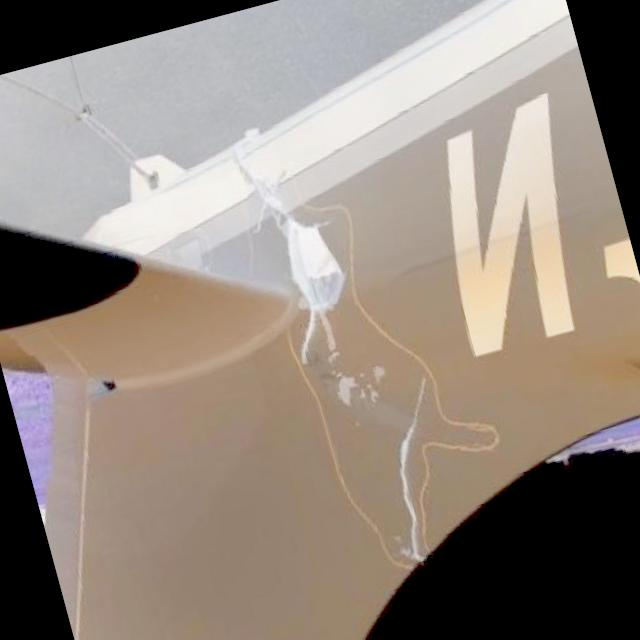crack: (352, 359, 472, 540)
